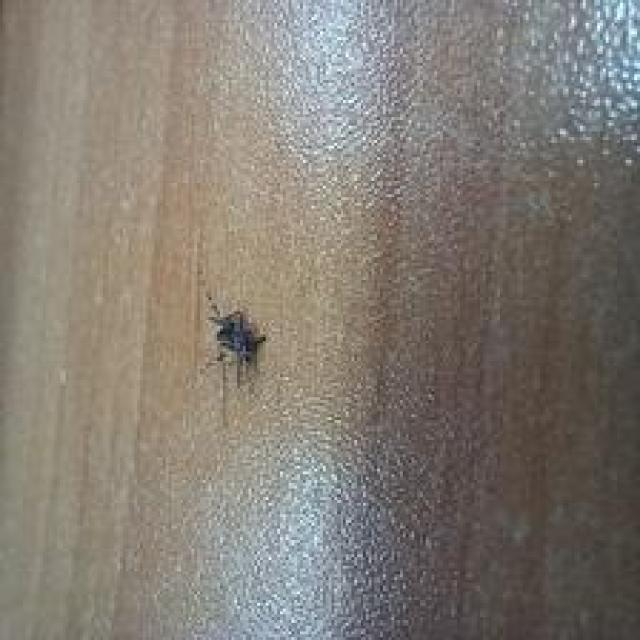Aedes albopictus: (202, 292, 267, 388)
